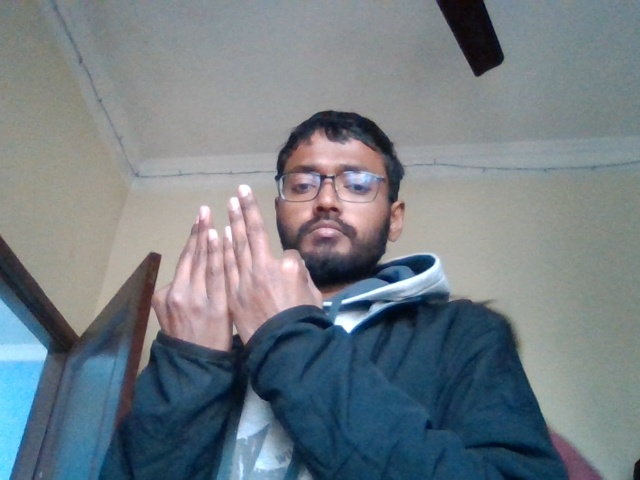family: (149, 203, 310, 355)
